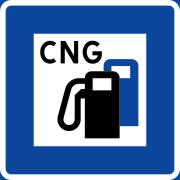Petrol Pump- Gas Station: (24, 23, 158, 158)
